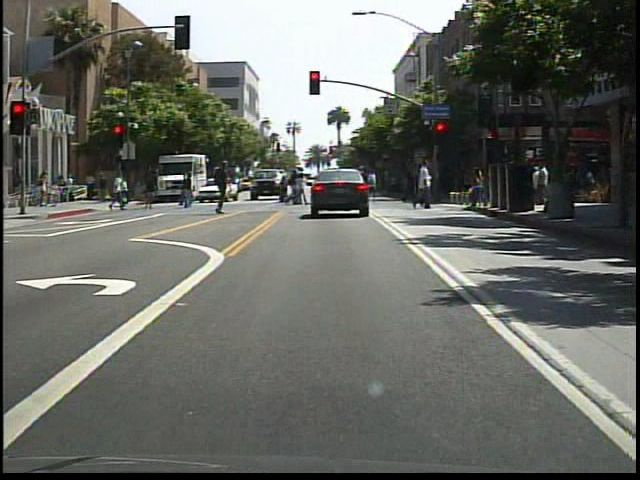person: (410, 158, 439, 212), (209, 162, 236, 219), (329, 168, 350, 215), (111, 171, 130, 217), (180, 171, 200, 212)
